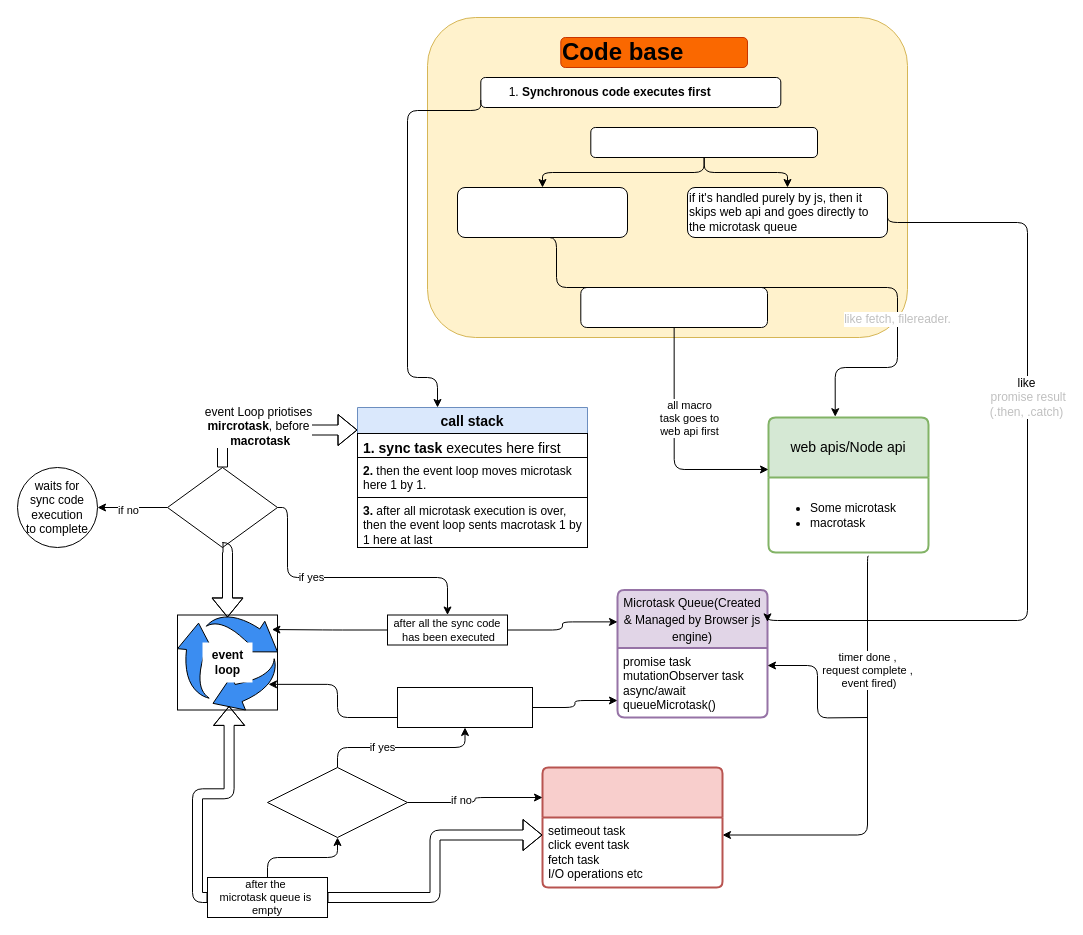
The diagram is 1083 pixels wide and 935 high, and some of its shapes have lost their labels. The shapes that lost their labels are listed below. From the top down, each one's box as (x1, y1, x2, y2) in pixels, then its label:
(590, 126, 818, 158): 2. Microtasks execute next
(456, 186, 628, 238): if it's handled by the browser, if uses web api
(580, 286, 768, 328): 3. Macrotasks execute next
(166, 466, 278, 548): check if call stack is empty
(396, 686, 532, 728): execute ALL of them before next macrotask
(266, 766, 408, 838): After executing one macrotask , check if it created any new microtasks
(541, 766, 723, 888): callback queue(Macrotask Queue)
